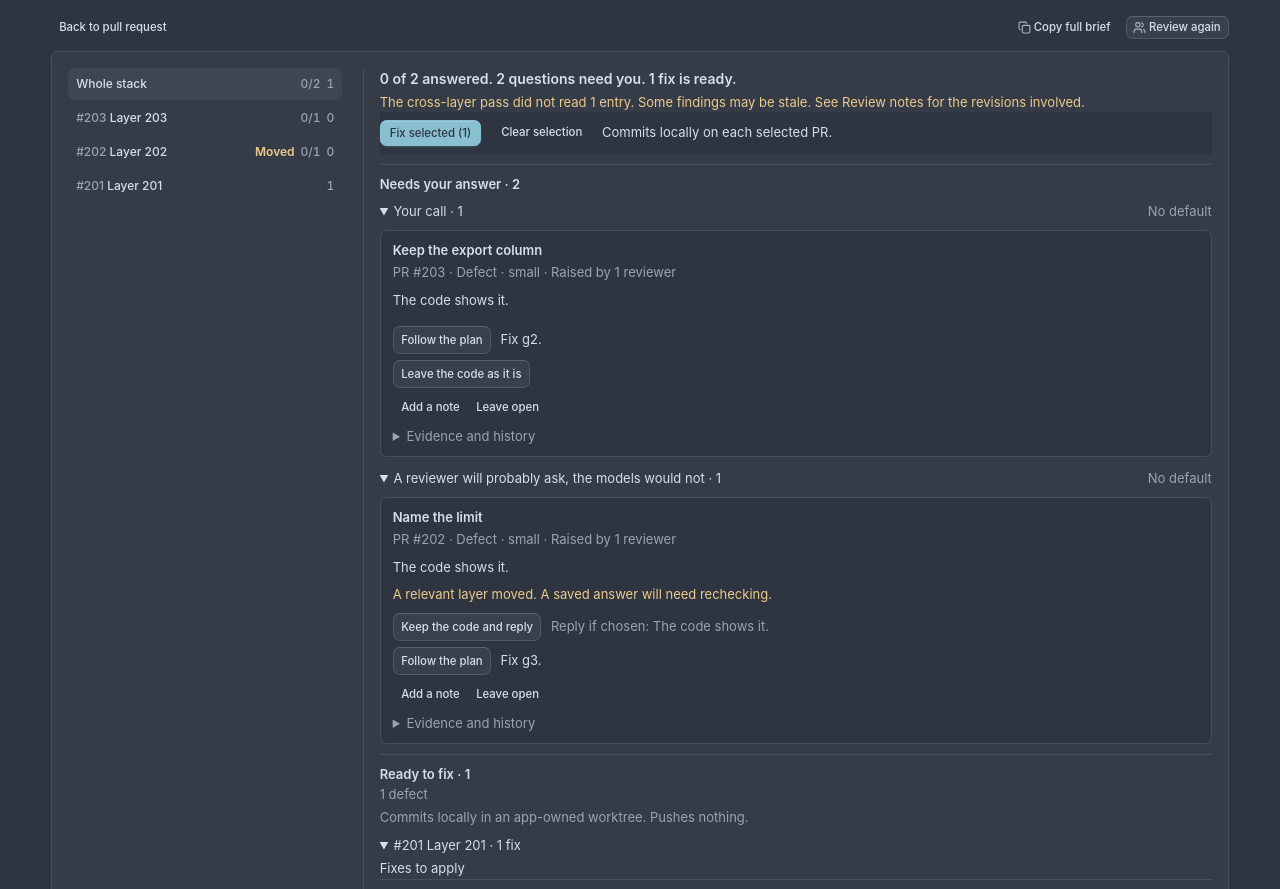
filters bands by layer and shows one checkbox, title and plan per fix
Expected: the button "Fix selected (1)" is enabled, top-left (380, 120), bottom-right (481, 146)
Click the button "#202 Layer 202 Moved 0/1 0": (138, 151) top-left (68, 136), bottom-right (343, 168)
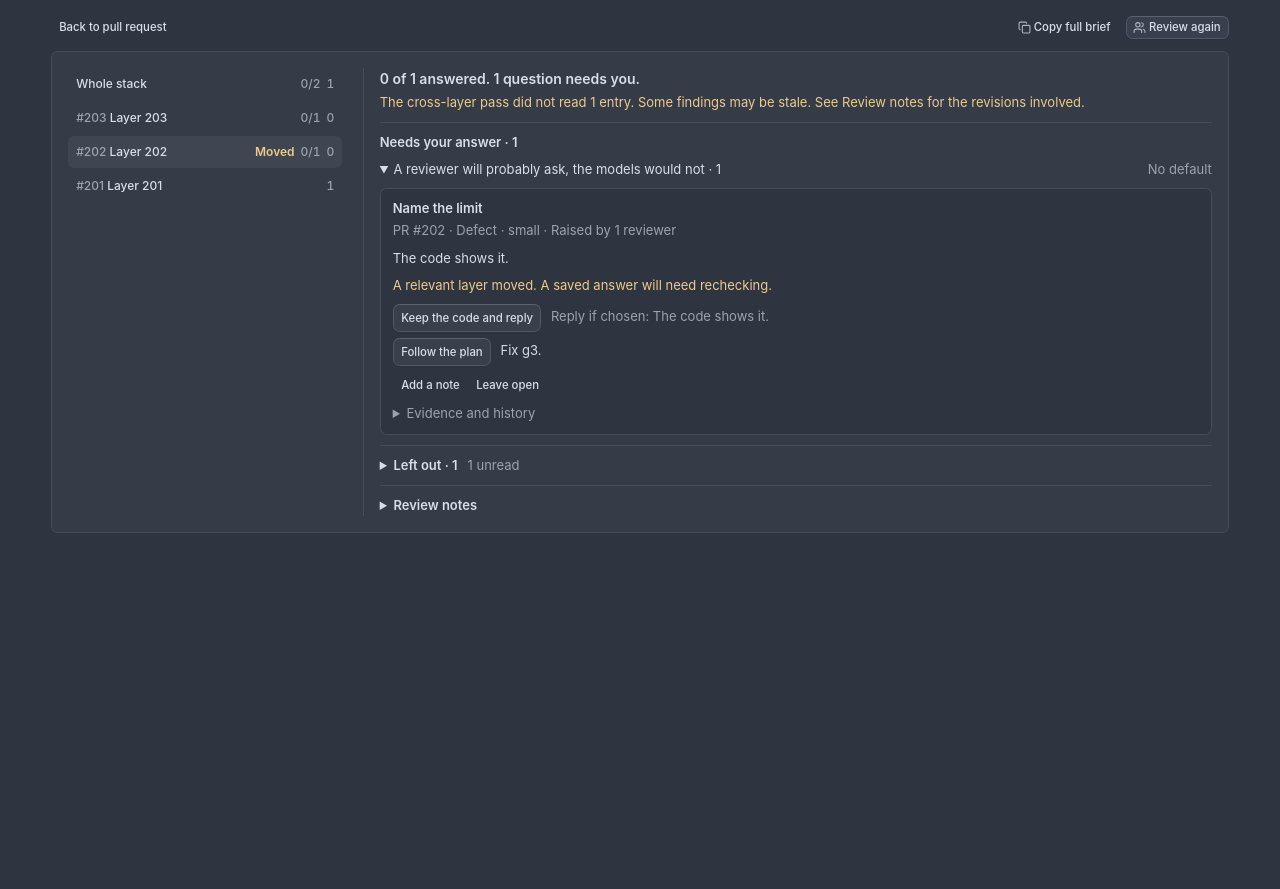
Expected: the heading "Needs your answer · 1" is shown, top-left (380, 134), bottom-right (518, 150)
Expected: the heading "Your call · 1" is gone
Expected: the heading "Ready to fix" is gone
Click the button "#201 Layer 201 1": (135, 185) top-left (68, 170), bottom-right (343, 202)
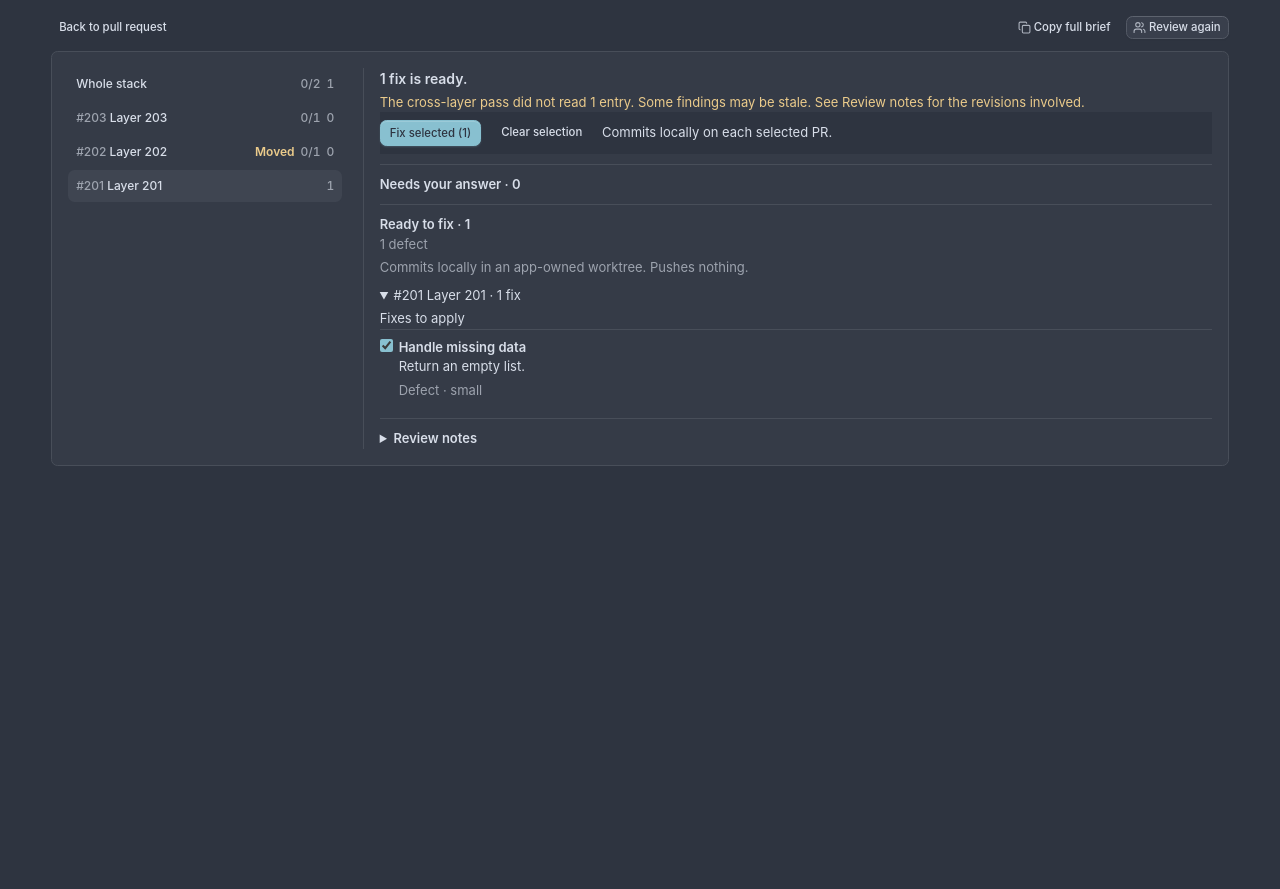
Expected: the text "The cross-layer pass did not read 1 entry" is shown, top-left (380, 94), bottom-right (1085, 110)
Expected: the heading "Ready to fix · 1" is shown, top-left (380, 216), bottom-right (470, 232)
Expected: the heading "Left out · 1" is gone
